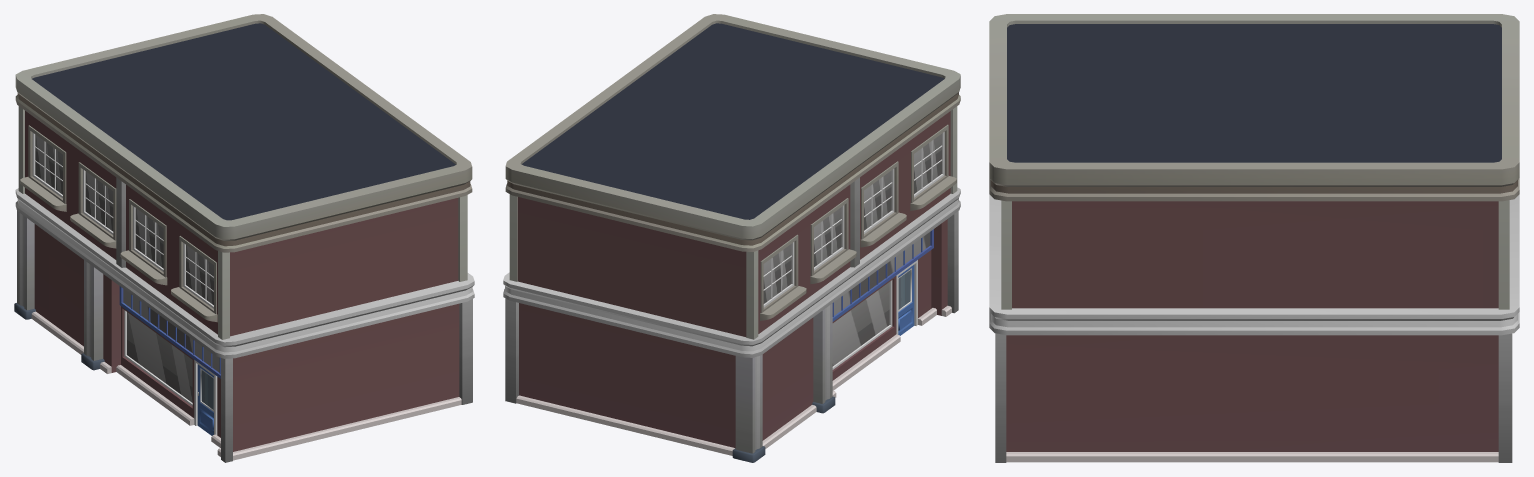
File: Building_11_2_I.fbx
3 views of the same model, side by side, from view 1: azimuth 30°, elevation 25°; view 2: azimuth 150°, elevation 25°; view 3: azimuth 270°, elevation 25° (orthographic). The views are drawn at different scales.
Parts seen in each view (by area): view 1: Building_11_2_I; view 2: Building_11_2_I; view 3: Building_11_2_I.
Boxes of the visible parts, bbox=[...] form: Building_11_2_I: bbox=[14, 14, 474, 462]; Building_11_2_I: bbox=[503, 14, 960, 462]; Building_11_2_I: bbox=[989, 14, 1519, 462].
Bounding box in the file's own units: 827 × 714 × 1163.
